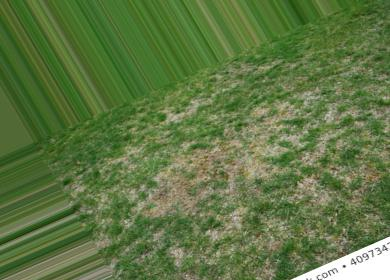patch: (200, 144, 256, 192), (161, 172, 192, 211), (264, 127, 292, 152)
